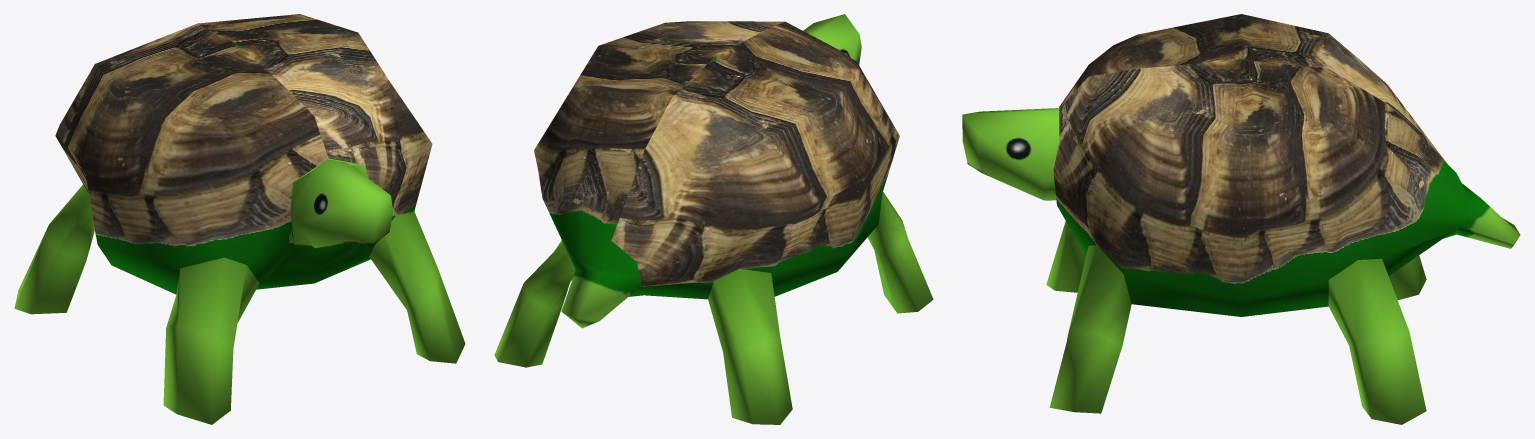
Rendered from turtle.obj.
The picture shows the model from 3 angles, left to right: view 1: azimuth 30°, elevation 25°; view 2: azimuth 150°, elevation 25°; view 3: azimuth 270°, elevation 25°; orthographic projection. The views are drawn at different scales.
Visible parts, largest first — view 1: Mesh_Cube_002; view 2: Mesh_Cube_002; view 3: Mesh_Cube_002.
Boxes of the visible parts, <box> form: Mesh_Cube_002: <box>14,14,465,424</box>; Mesh_Cube_002: <box>494,14,933,424</box>; Mesh_Cube_002: <box>962,14,1520,424</box>.
Size of the model in its own units: 0.0177 by 0.0158 by 0.0271.
1 material, 1 textured.
